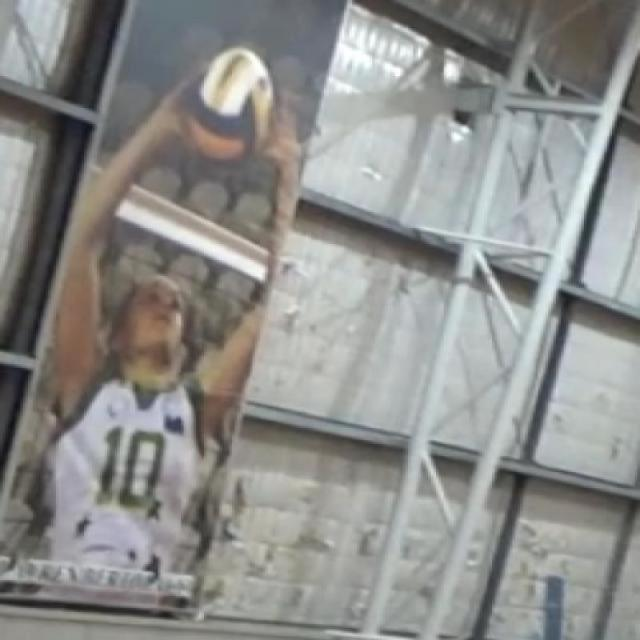volleyball: (176, 40, 286, 170)
